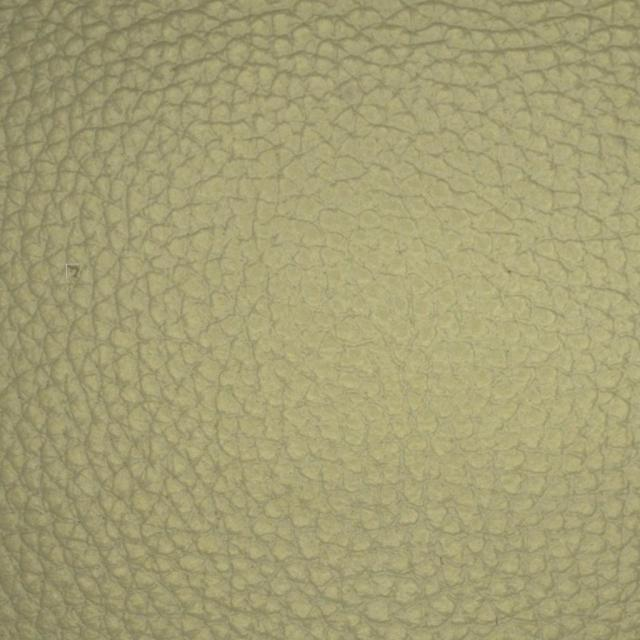pinhole: (23, 206, 152, 352)
